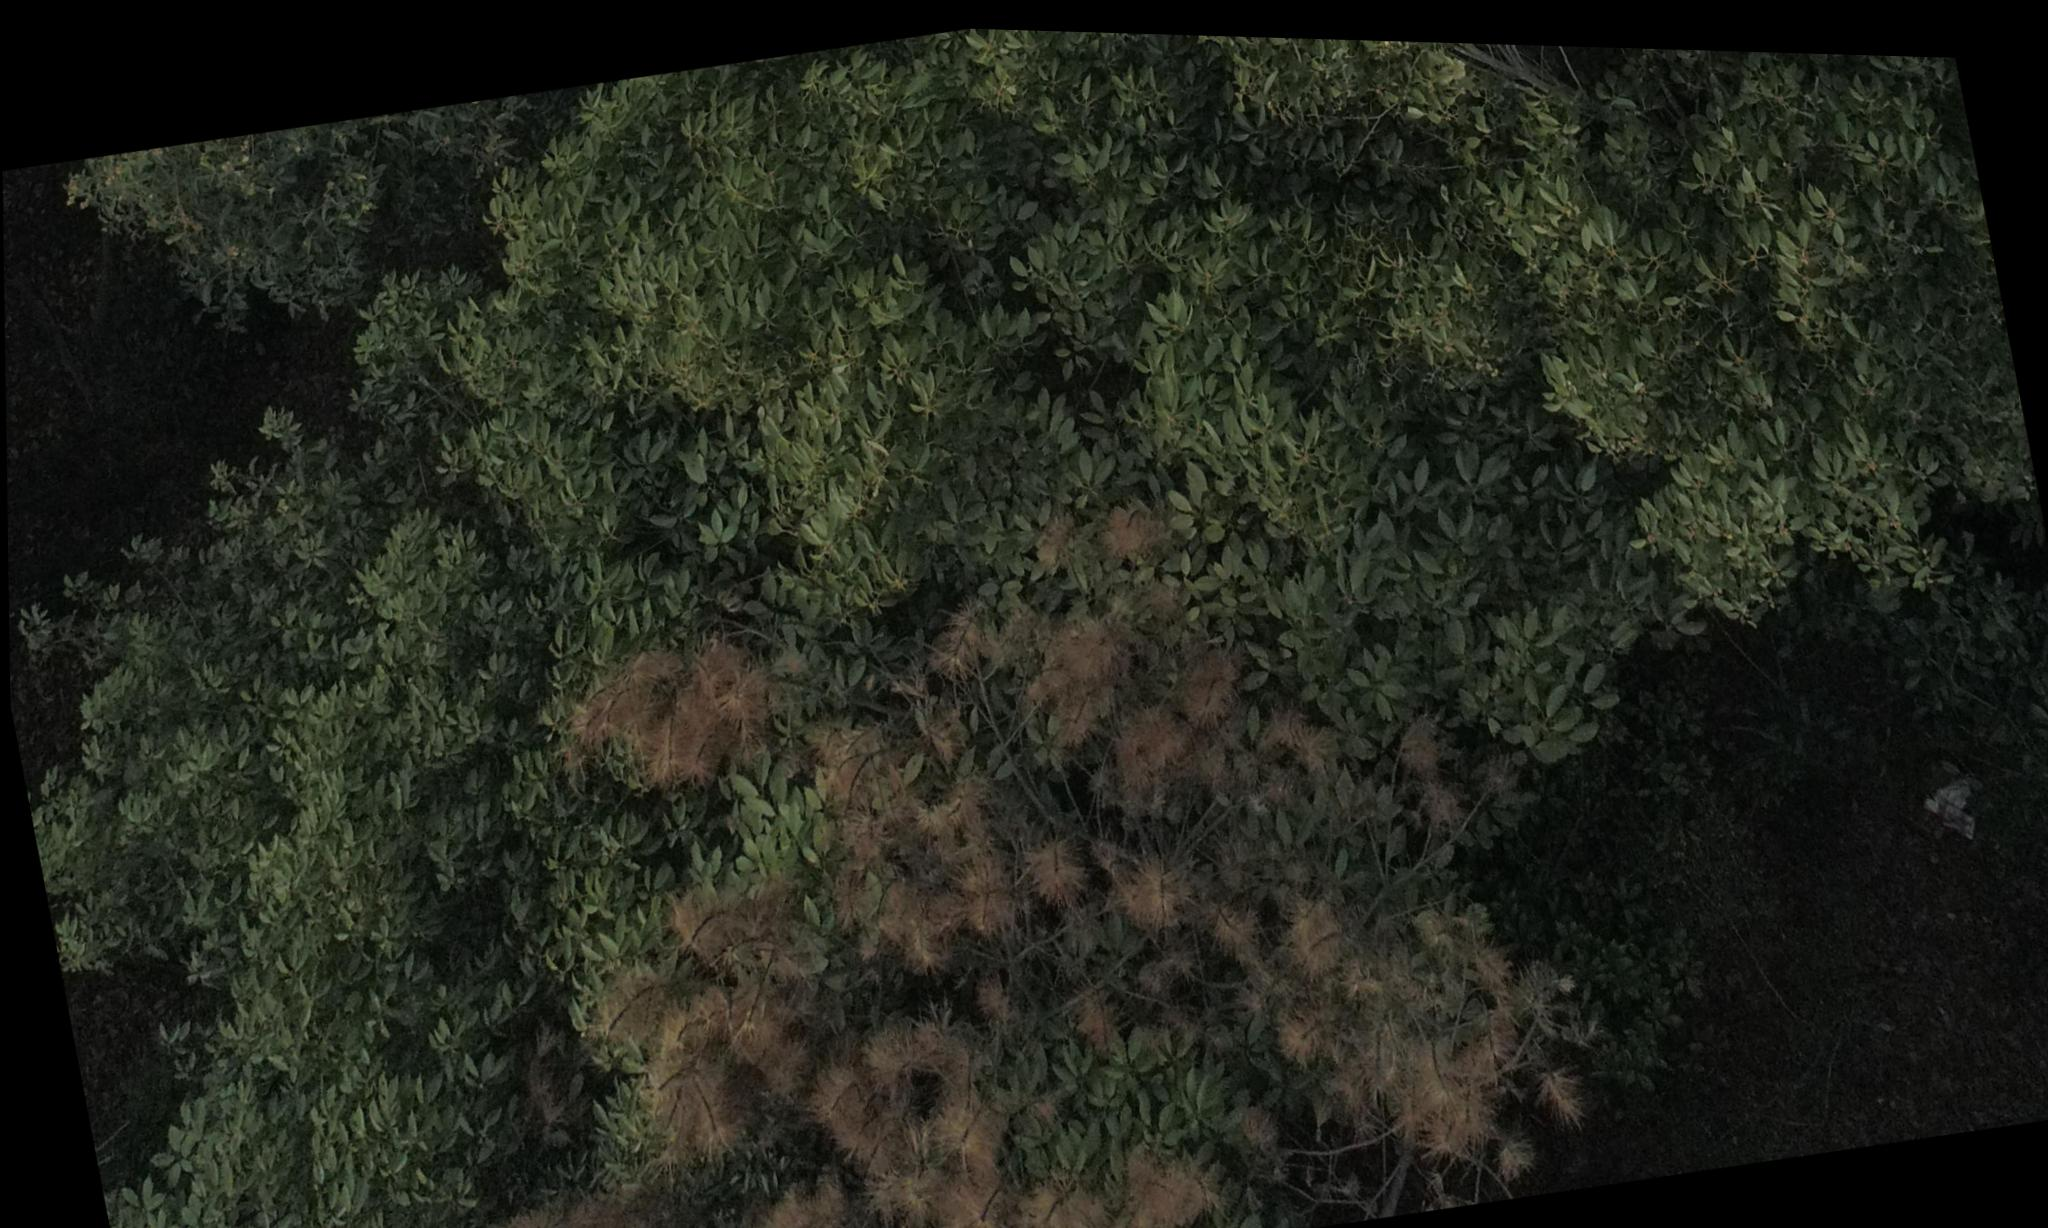heavy: (310, 422, 1609, 1228)
